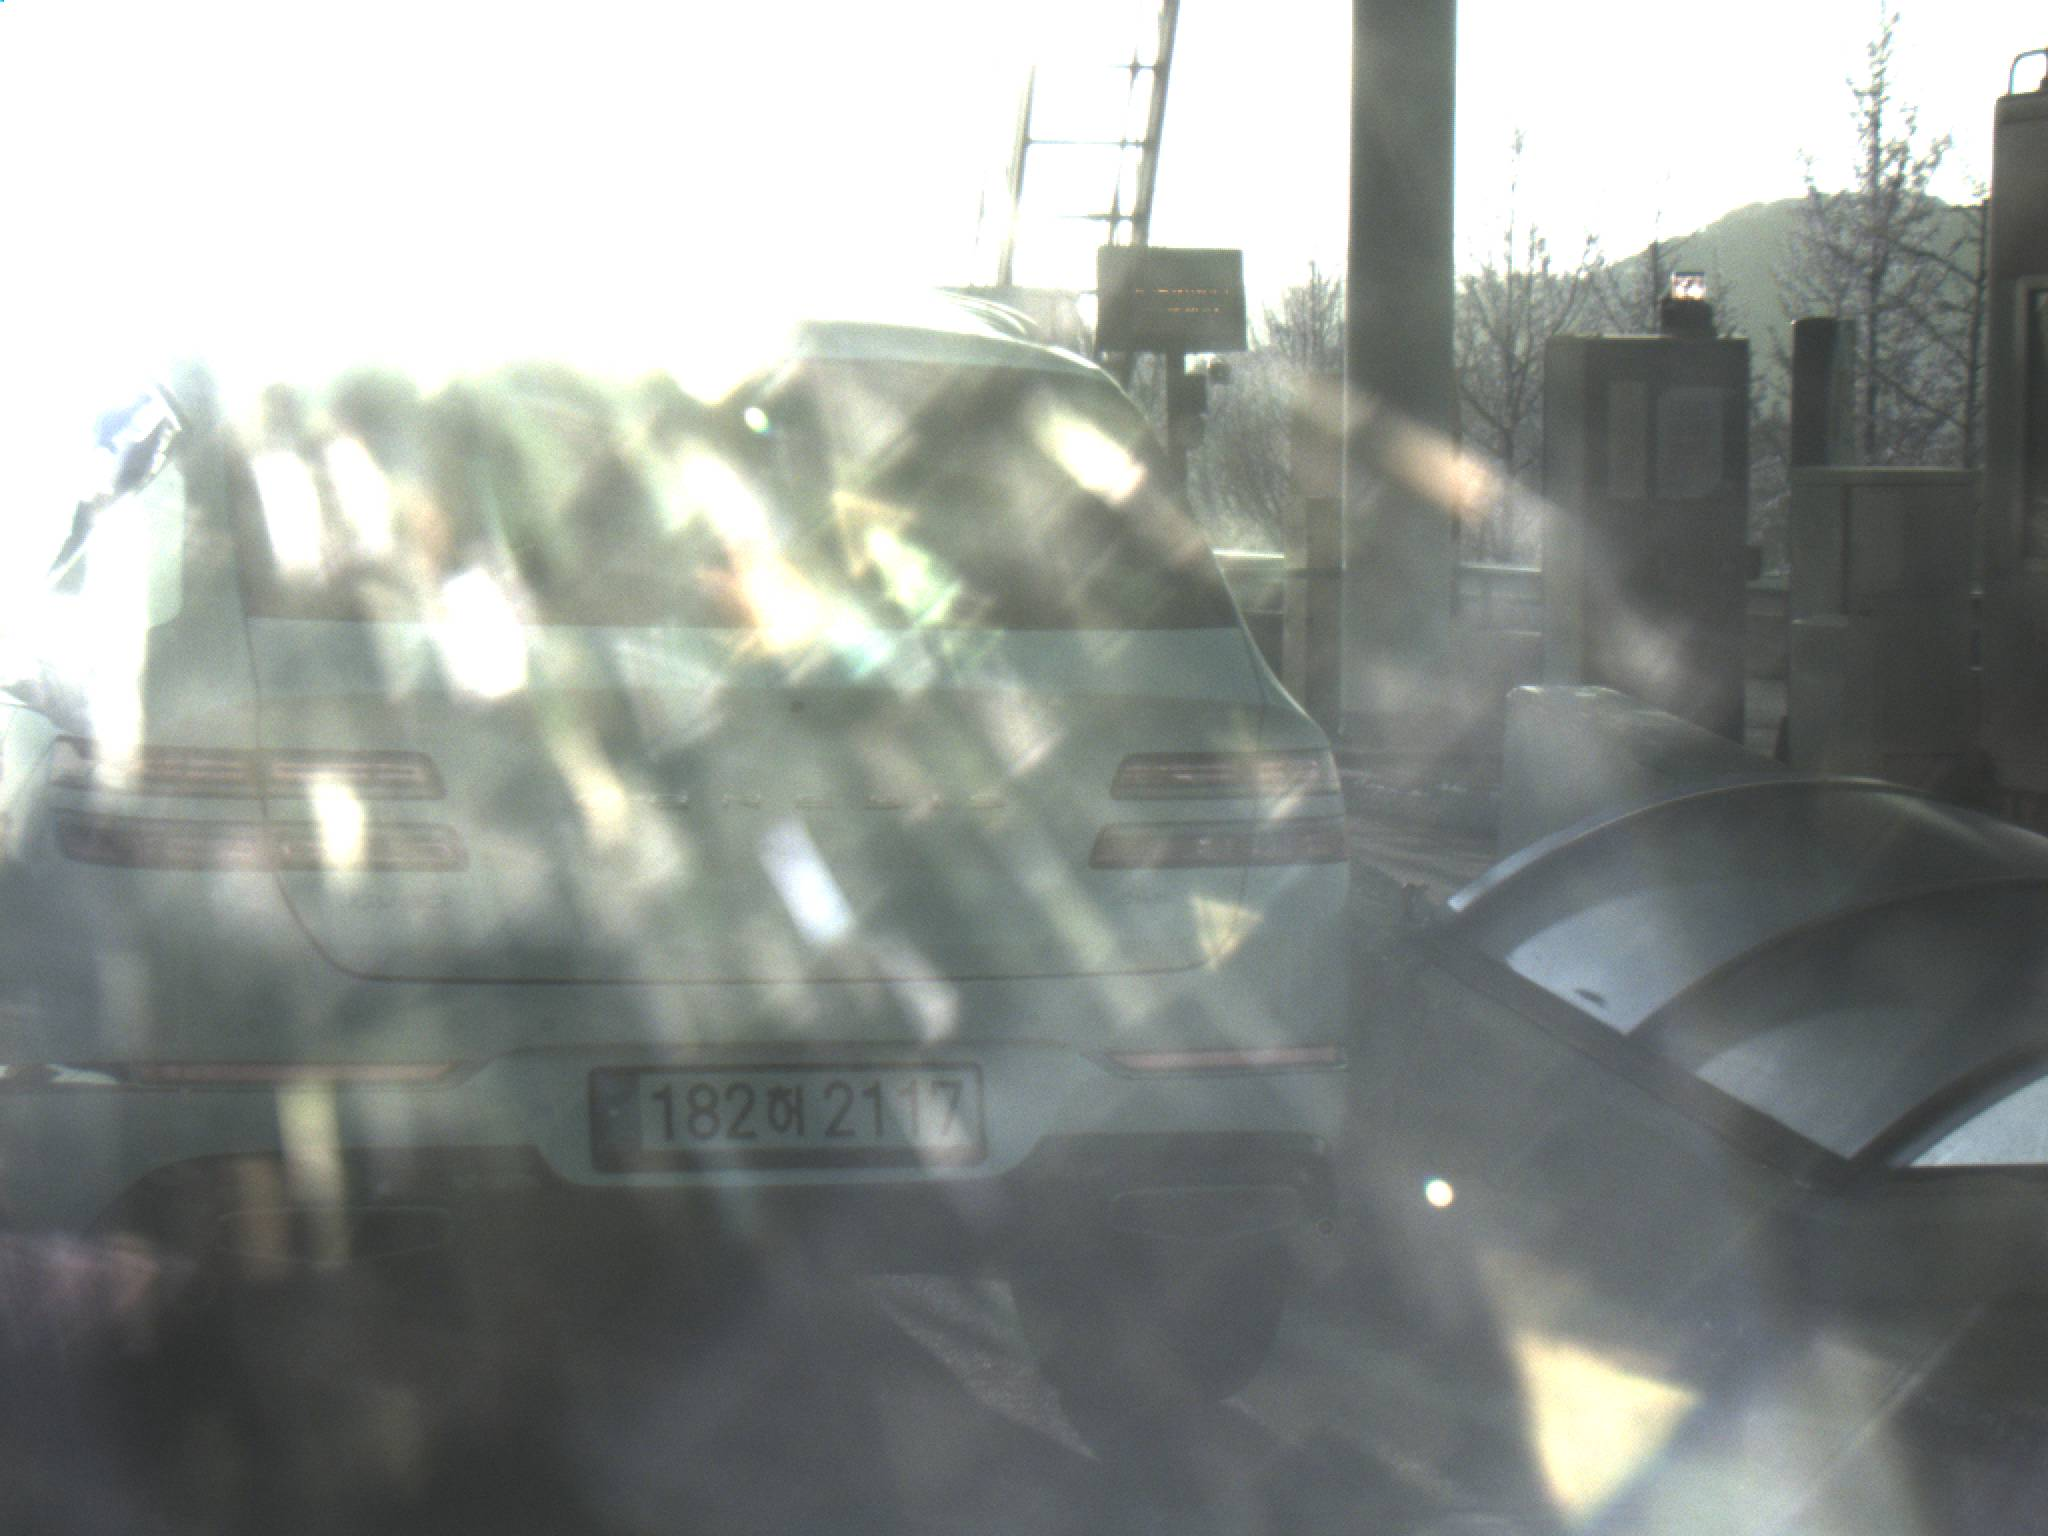car: (1, 309, 1365, 1428)
plate: (578, 1057, 1002, 1166)
